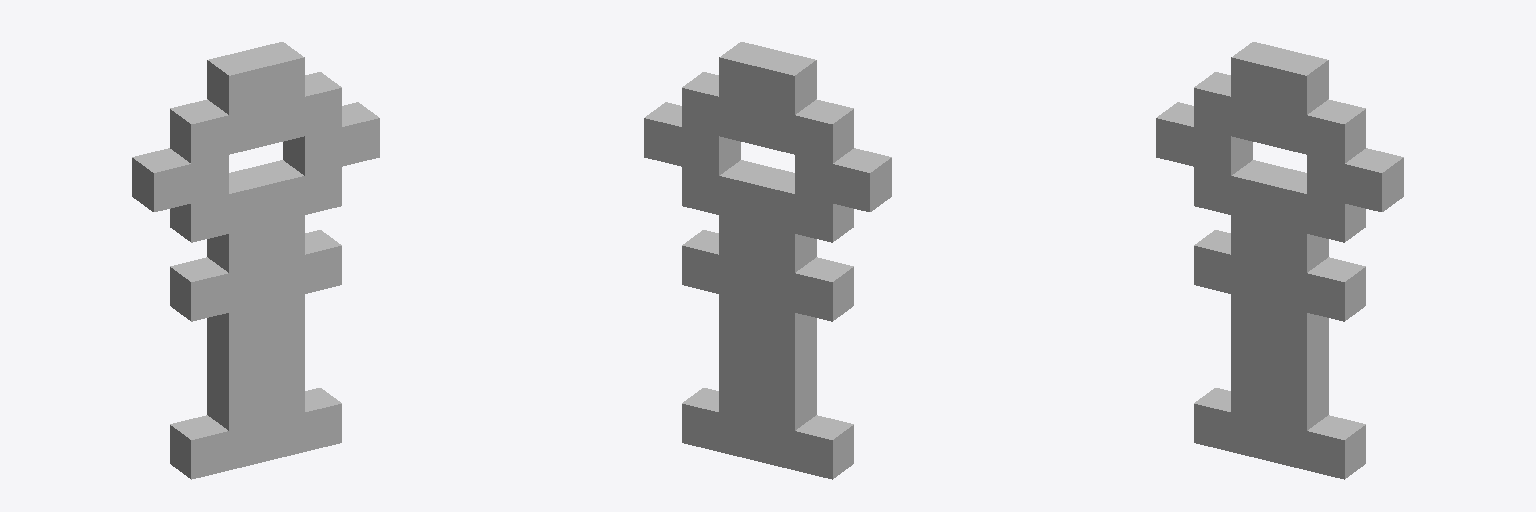
The model's file is 03_key_2X.obj.
3 views of the same model, side by side, from view 1: azimuth 30°, elevation 25°; view 2: azimuth 150°, elevation 25°; view 3: azimuth 330°, elevation 25° (orthographic).
Size of the model in its own units: 6 by 10 by 1.